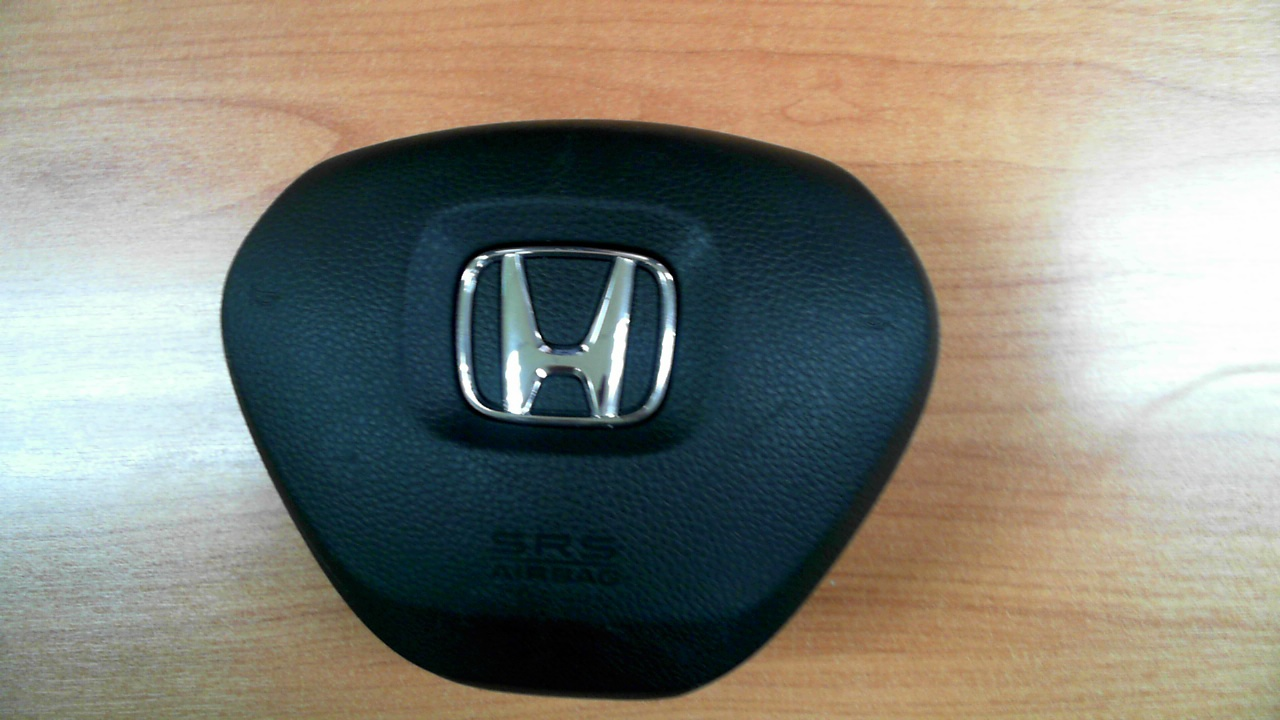Airbag: (219, 120, 942, 702)
Honda: (456, 245, 678, 428)
